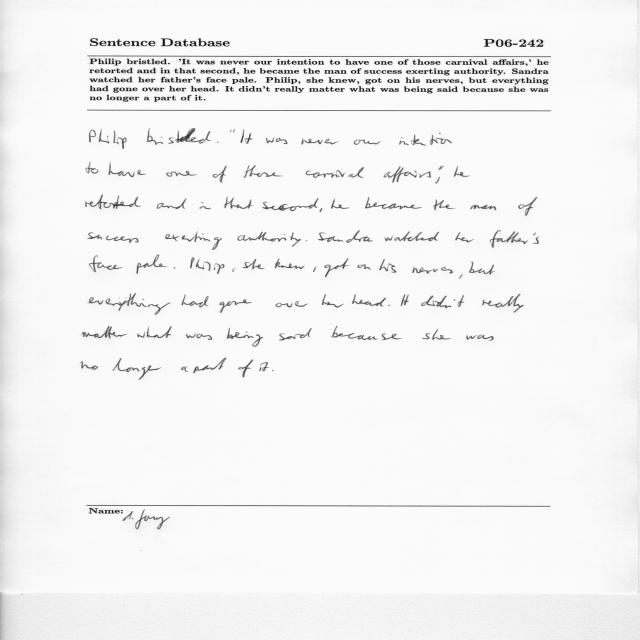word: (88, 293, 170, 315), (147, 128, 211, 145), (165, 231, 222, 250), (113, 358, 162, 380), (331, 326, 402, 340), (238, 232, 301, 247), (490, 230, 539, 248), (384, 166, 432, 183), (86, 195, 141, 209), (89, 129, 127, 149), (482, 294, 524, 312), (262, 198, 319, 211), (318, 230, 373, 243), (399, 133, 452, 146), (365, 197, 422, 209), (227, 328, 263, 347), (306, 167, 364, 178), (136, 255, 167, 274), (82, 326, 127, 339), (89, 255, 123, 272), (190, 257, 224, 274), (108, 162, 146, 177), (88, 232, 139, 243), (421, 295, 464, 308), (385, 232, 439, 242), (193, 358, 227, 373), (244, 165, 283, 178), (325, 258, 350, 277), (219, 299, 252, 313), (279, 328, 312, 341), (137, 326, 172, 338), (352, 294, 386, 306), (518, 197, 537, 216), (182, 295, 209, 308), (224, 197, 253, 209), (469, 262, 495, 275), (157, 198, 187, 209), (275, 259, 305, 270), (422, 329, 451, 340), (322, 294, 344, 308), (412, 267, 453, 274), (238, 360, 253, 378), (434, 200, 456, 211), (213, 166, 227, 183), (380, 259, 397, 273), (275, 301, 308, 308), (301, 139, 338, 145), (243, 259, 265, 269), (331, 198, 350, 209), (455, 232, 474, 242), (166, 171, 197, 177), (186, 333, 212, 340), (241, 129, 253, 144), (466, 335, 494, 341), (454, 166, 469, 177), (354, 139, 381, 145), (266, 138, 288, 145), (81, 361, 98, 370), (86, 162, 98, 174), (470, 205, 497, 210), (259, 362, 269, 371), (401, 295, 409, 306), (199, 202, 211, 209), (357, 265, 371, 270), (435, 177, 440, 184), (181, 367, 188, 372), (229, 129, 235, 133), (438, 166, 444, 170), (459, 275, 463, 279), (313, 267, 316, 272), (320, 208, 323, 212), (233, 268, 236, 272), (174, 267, 176, 269), (388, 304, 390, 306), (217, 142, 219, 143), (272, 370, 274, 371), (306, 240, 307, 241)
